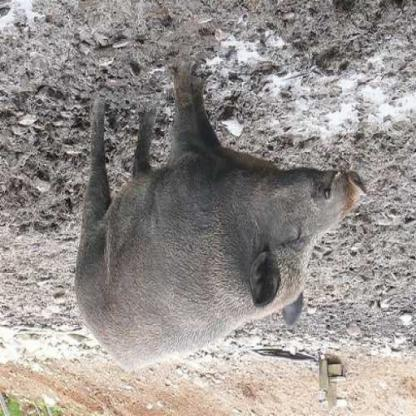boar: (44, 57, 391, 402)
